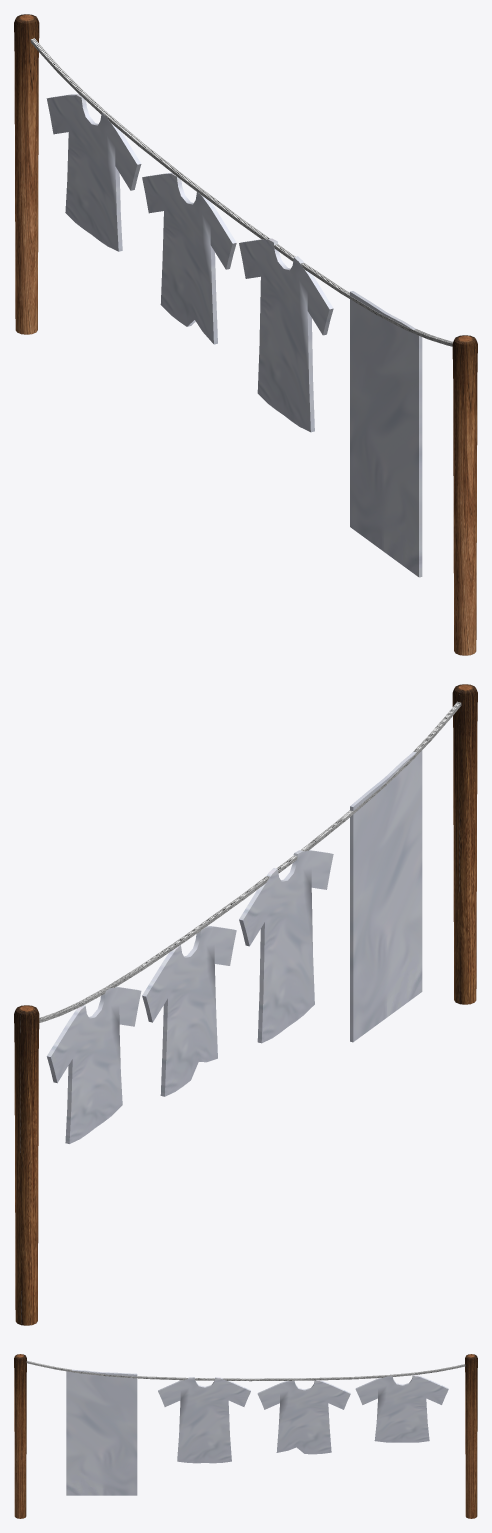
File: Clothesline.FBX
3 views of the same model, one above another, from view 1: azimuth 30°, elevation 25°; view 2: azimuth 150°, elevation 25°; view 3: azimuth 270°, elevation 25° (orthographic). The views are drawn at different scales.
Visible parts, largest first — view 1: Plane004, Plane003, Plane002, Plane001, Cylinder002, Cylinder001, Line001; view 2: Plane004, Plane003, Plane002, Plane001, Cylinder001, Cylinder002, Line001; view 3: Plane004, Plane003, Plane002, Plane001, Cylinder001, Cylinder002, Line001.
Boxes of the visible parts, box(x1,y1,x2,y2) form: Plane004: box(350, 291, 422, 577); Plane003: box(239, 238, 333, 432); Plane002: box(142, 173, 236, 344); Plane001: box(46, 94, 141, 251); Cylinder002: box(452, 335, 477, 655); Cylinder001: box(14, 14, 39, 334); Line001: box(30, 38, 452, 346); Plane004: box(350, 750, 422, 1042); Plane003: box(239, 850, 333, 1043); Plane002: box(142, 926, 236, 1096); Plane001: box(46, 986, 141, 1143); Cylinder001: box(14, 1005, 39, 1325); Cylinder002: box(452, 684, 477, 1004); Line001: box(39, 701, 461, 1022); Plane004: box(66, 1369, 137, 1495); Plane003: box(158, 1377, 250, 1463); Plane002: box(257, 1380, 350, 1454); Plane001: box(355, 1375, 448, 1442); Cylinder001: box(465, 1354, 477, 1518); Cylinder002: box(14, 1354, 26, 1518); Line001: box(26, 1360, 465, 1381).
Size of the model in its own units: 3.05 by 41.3 by 108.
Materials: 4 (4 with a texture image).
